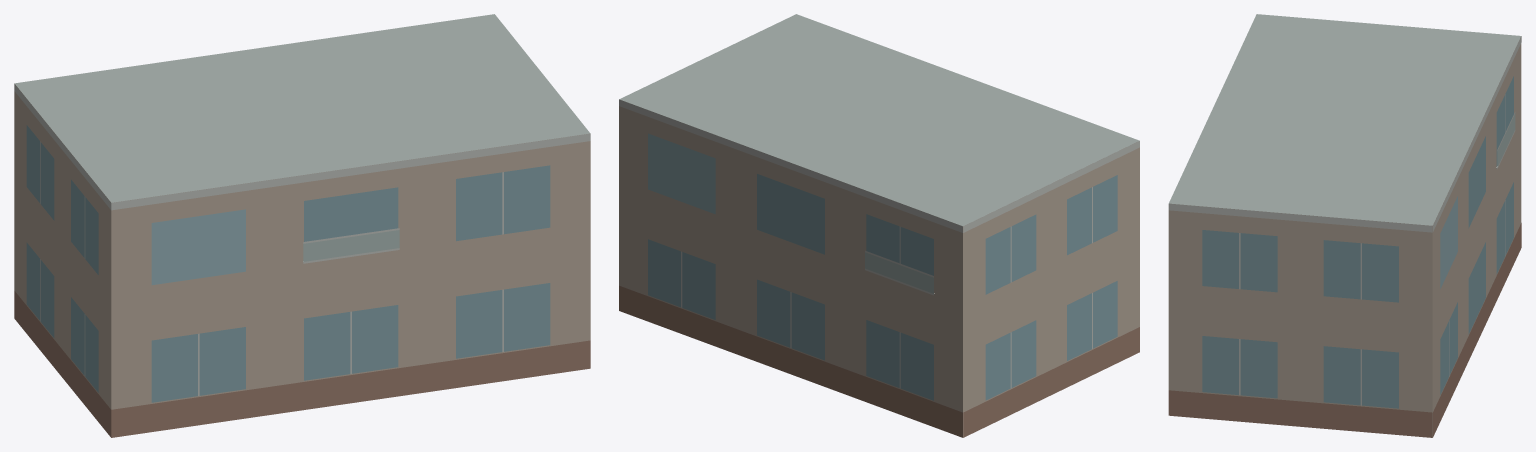
Rendered from survey-upis-33011468.glb.
3 renders of one model, left to right at view 1: azimuth 30°, elevation 25°; view 2: azimuth 150°, elevation 25°; view 3: azimuth 270°, elevation 25°, orthographic. The views are drawn at different scales.
Visible parts, largest first — view 1: survey-upis-33011468.tmp; view 2: survey-upis-33011468.tmp; view 3: survey-upis-33011468.tmp.
Boxes of the visible parts, <box> form: survey-upis-33011468.tmp: <box>14,14,590,437</box>; survey-upis-33011468.tmp: <box>619,14,1139,437</box>; survey-upis-33011468.tmp: <box>1168,14,1521,437</box>.
Size of the model in its own units: 16.29 by 7.6 by 11.47.
